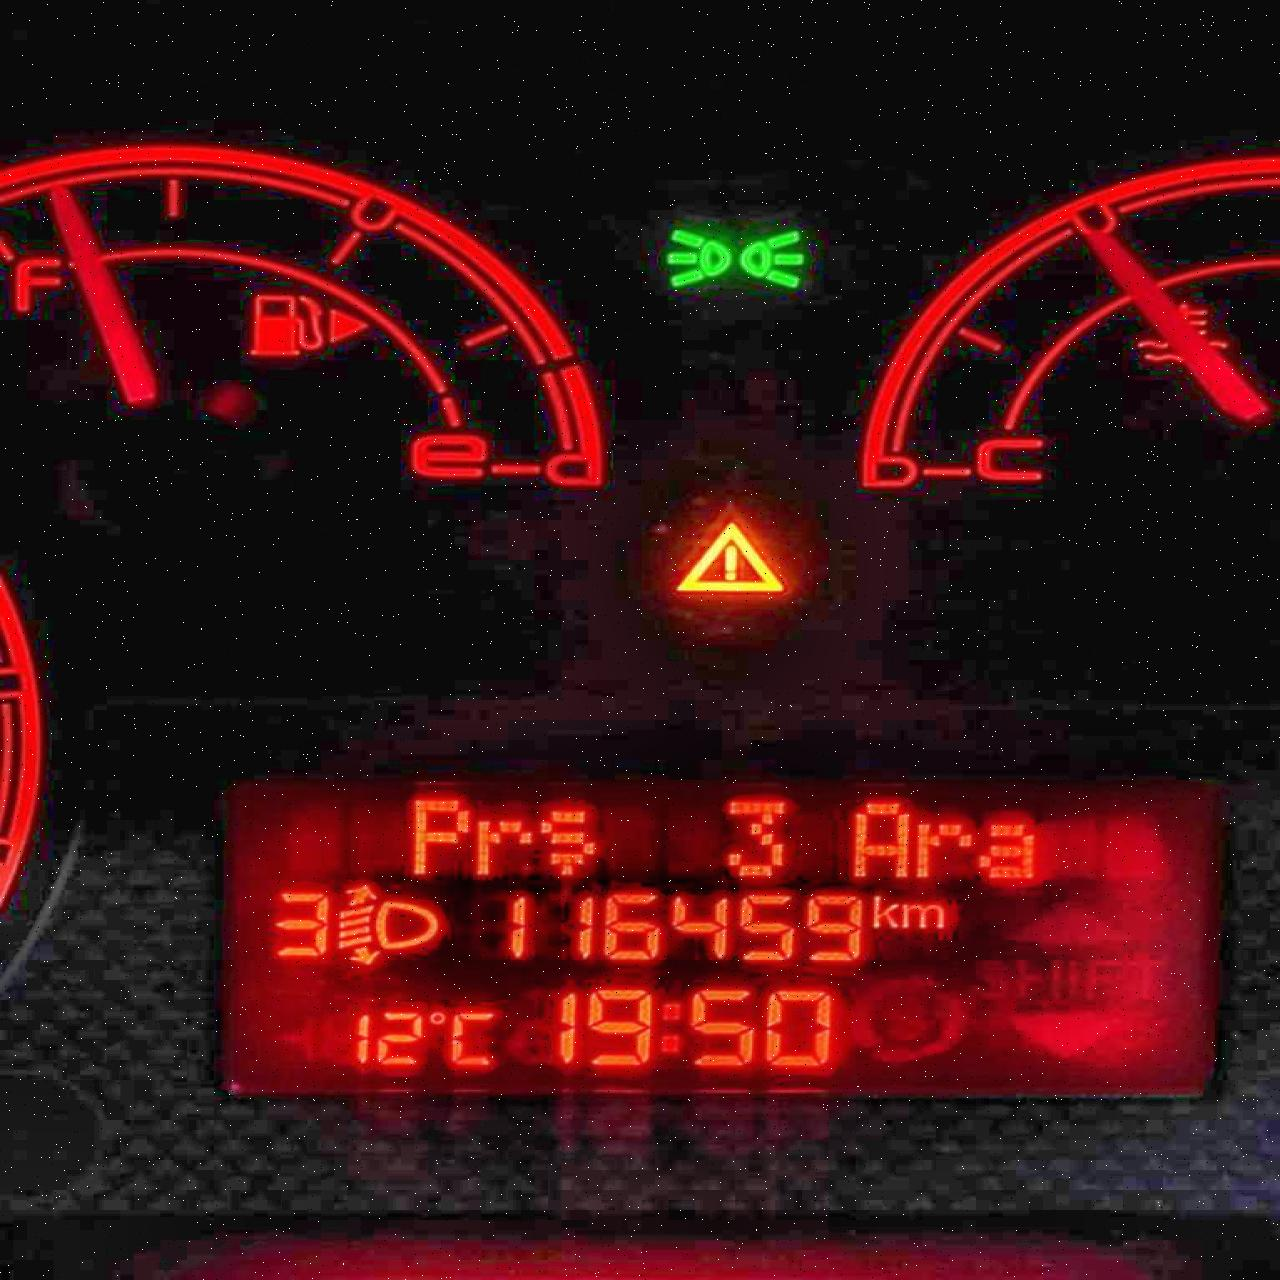0: (762, 985, 836, 1070)
1: (549, 987, 580, 1064), (565, 892, 598, 959), (498, 892, 531, 959), (345, 1007, 373, 1064)
2: (374, 1006, 423, 1069)
3: (717, 794, 794, 880), (267, 886, 333, 961)
4: (665, 890, 730, 959)
5: (687, 982, 758, 1070), (730, 890, 797, 964)
6: (600, 888, 663, 962)
9: (580, 985, 652, 1069), (799, 890, 864, 964)
X: (840, 795, 912, 881), (401, 792, 474, 877), (973, 815, 1047, 884), (535, 803, 600, 878), (470, 813, 535, 878), (915, 815, 974, 880), (445, 1005, 498, 1069), (655, 998, 685, 1055), (899, 899, 947, 930), (867, 892, 898, 928), (424, 1009, 447, 1024)
odometer: (193, 765, 1233, 1109)
